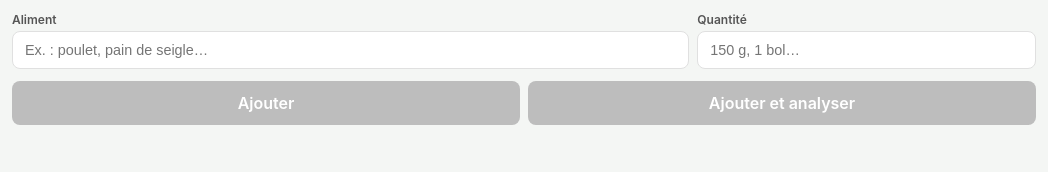
Test: FoodSearchComponent › saisie du champ Aliment › devrait activer le bouton Ajouter quand un texte est saisi
Type "Tomate" into the field with id "food-name" at (351, 50), box [12, 31, 689, 69]
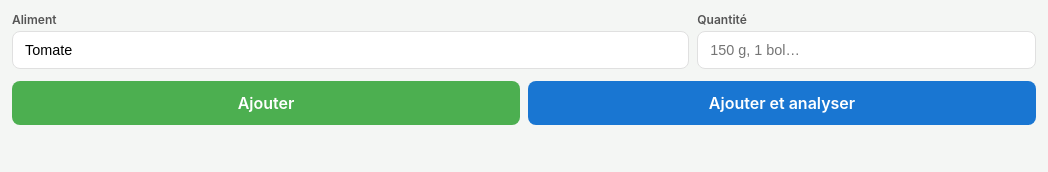
Now the button with class "food-search__add-btn" is enabled, box [12, 81, 520, 125]
